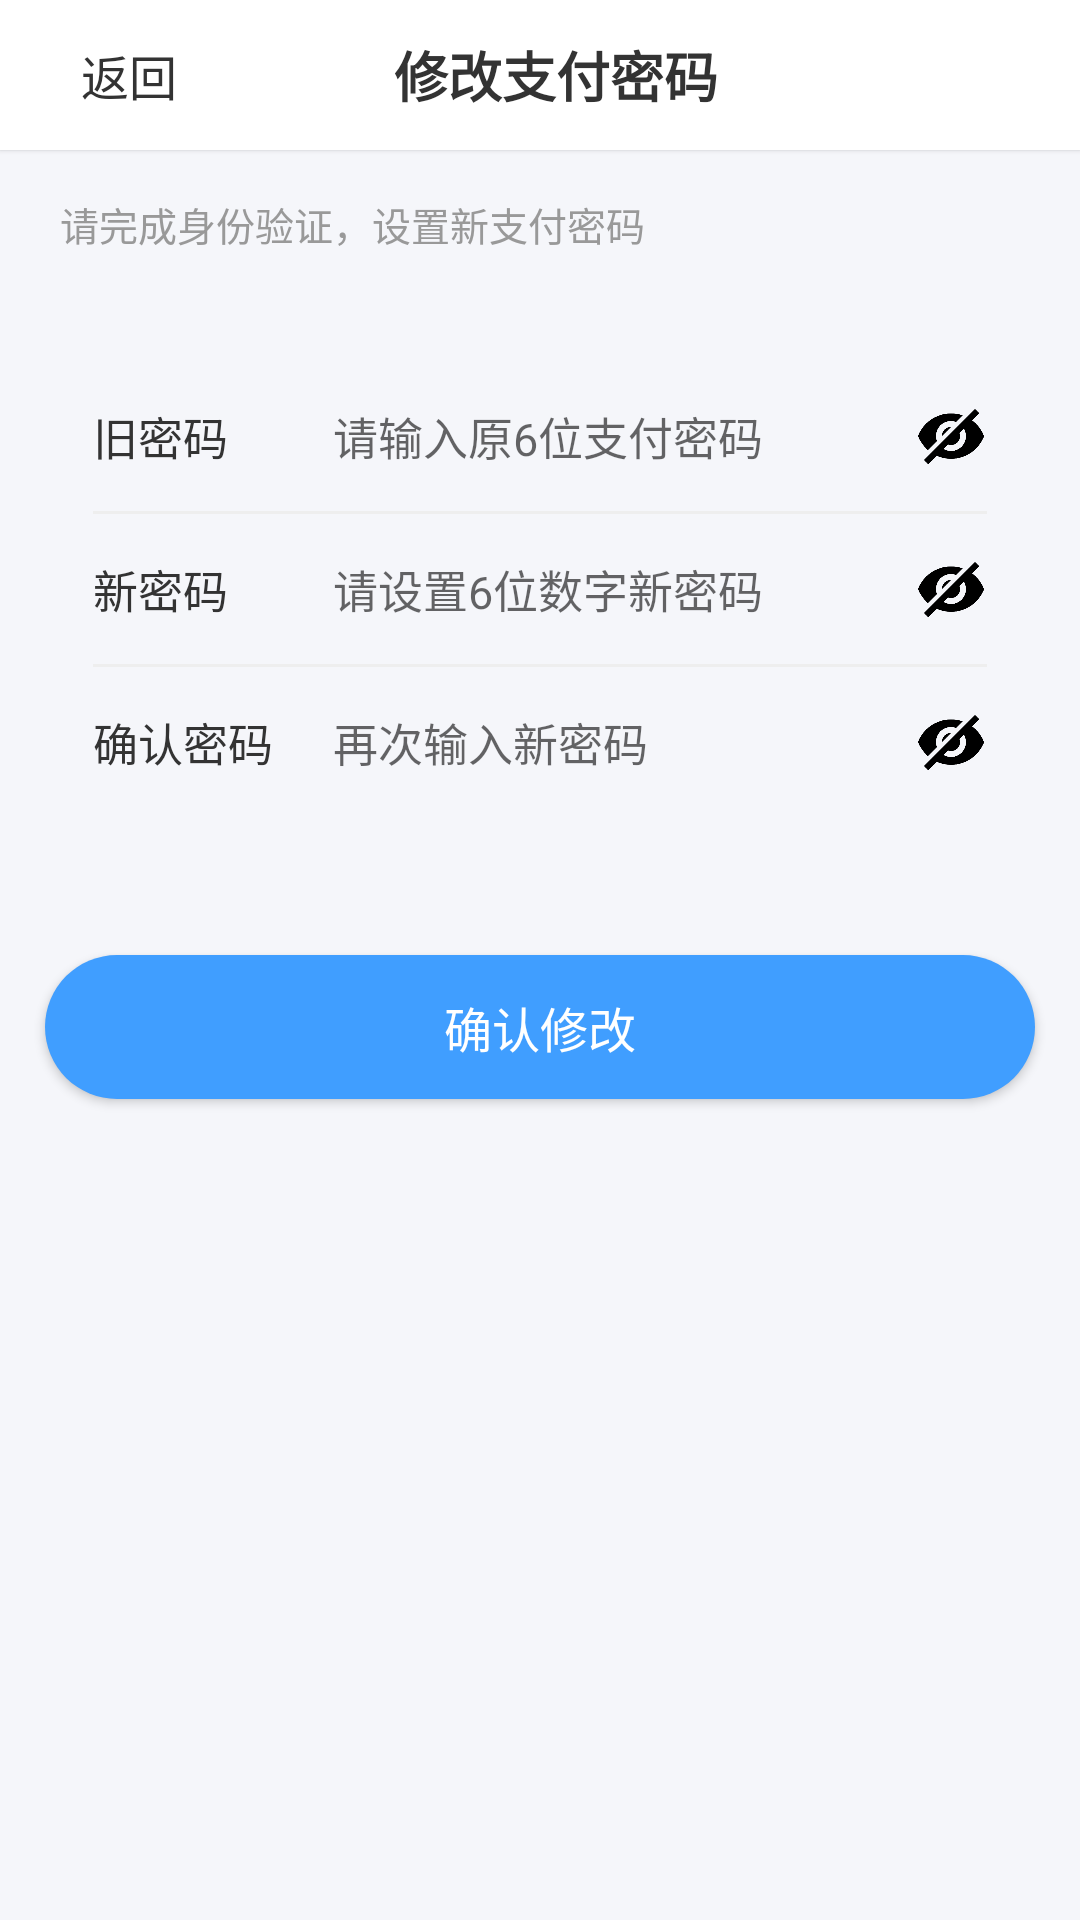

Icon bounding boxes for this 1080 x 1920 phone screenshot, format (x1, y1, x2, y2):
eye close: (918, 409, 984, 464), (918, 562, 984, 617), (918, 715, 984, 770)
